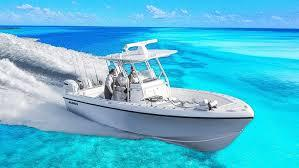fishing boat: (62, 38, 258, 152)
